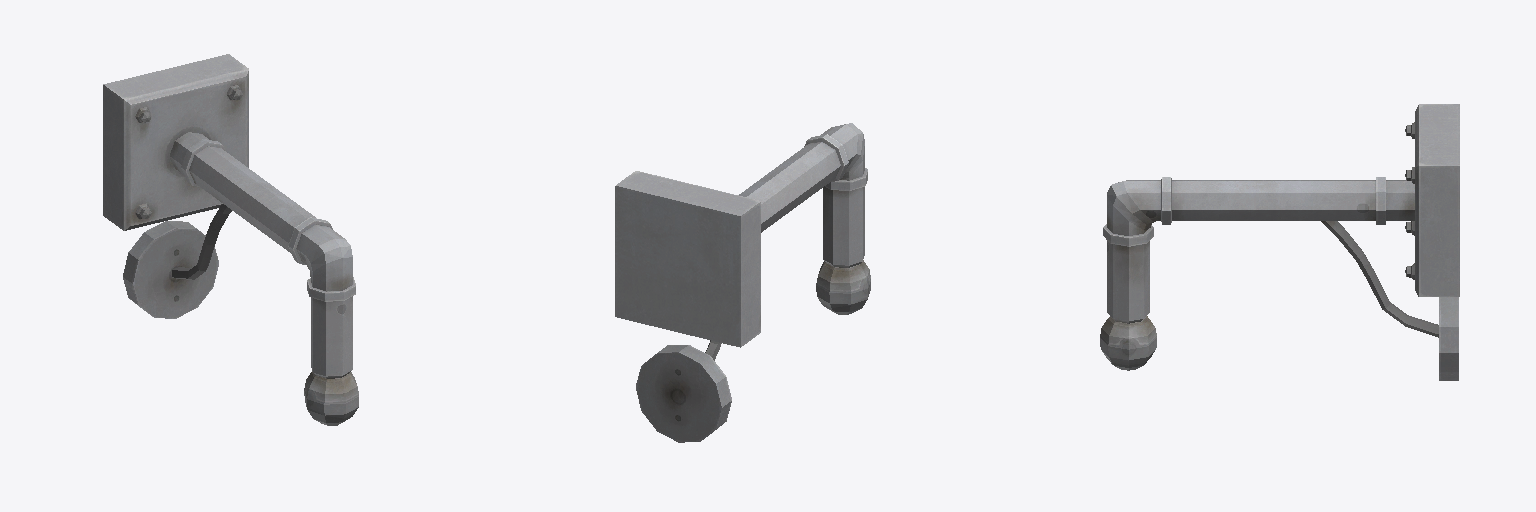
3 views of the same model, side by side, from view 1: azimuth 30°, elevation 25°; view 2: azimuth 150°, elevation 25°; view 3: azimuth 270°, elevation 25° (orthographic).
Visible parts, largest first — view 1: SM_TC5CamarmB; view 2: SM_TC5CamarmB; view 3: SM_TC5CamarmB.
Part boxes in pixels (left/top/right/bottom): SM_TC5CamarmB: left=103, top=54, right=358, bottom=425; SM_TC5CamarmB: left=615, top=123, right=870, bottom=442; SM_TC5CamarmB: left=1100, top=104, right=1459, bottom=380.
Size of the model in its own units: 14.02 by 25.82 by 34.86.
Materials: 1 (1 with a texture image).